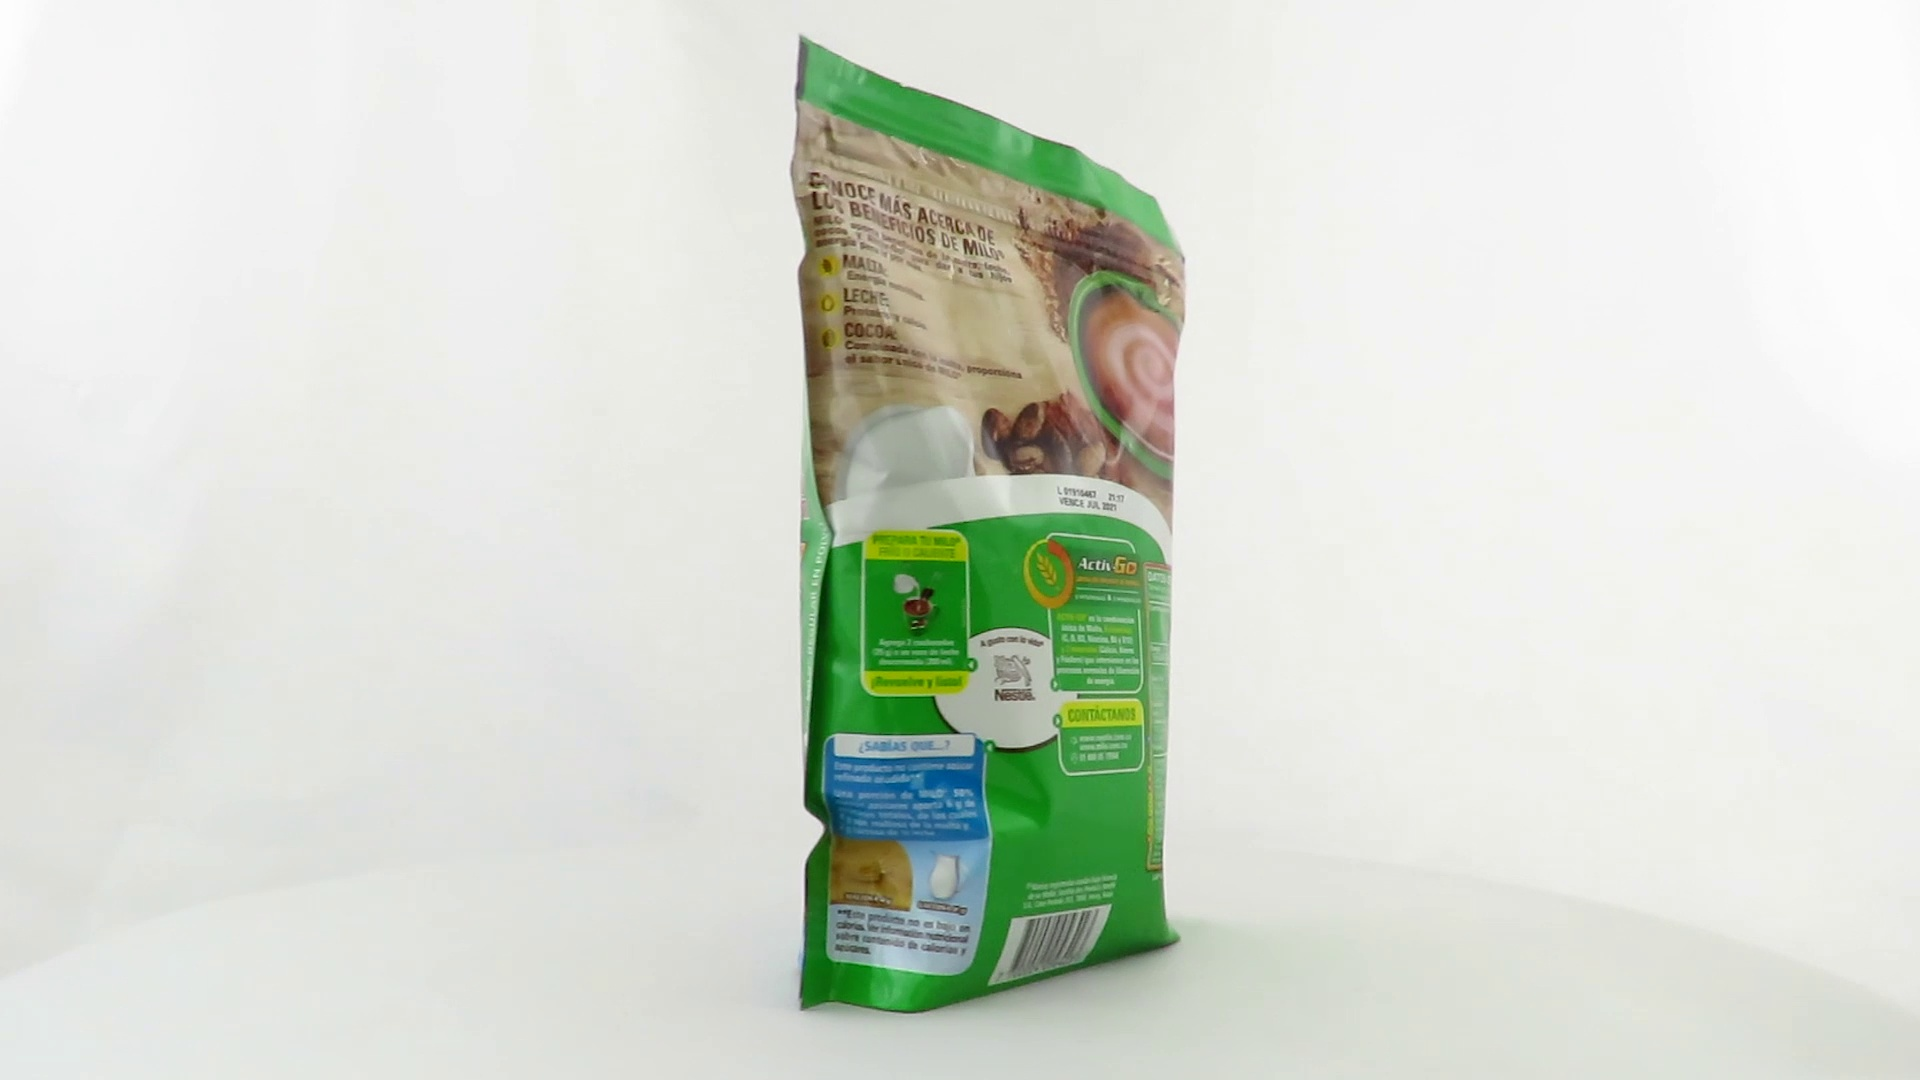COL0170205DYP50000: (785, 30, 1193, 1021)
